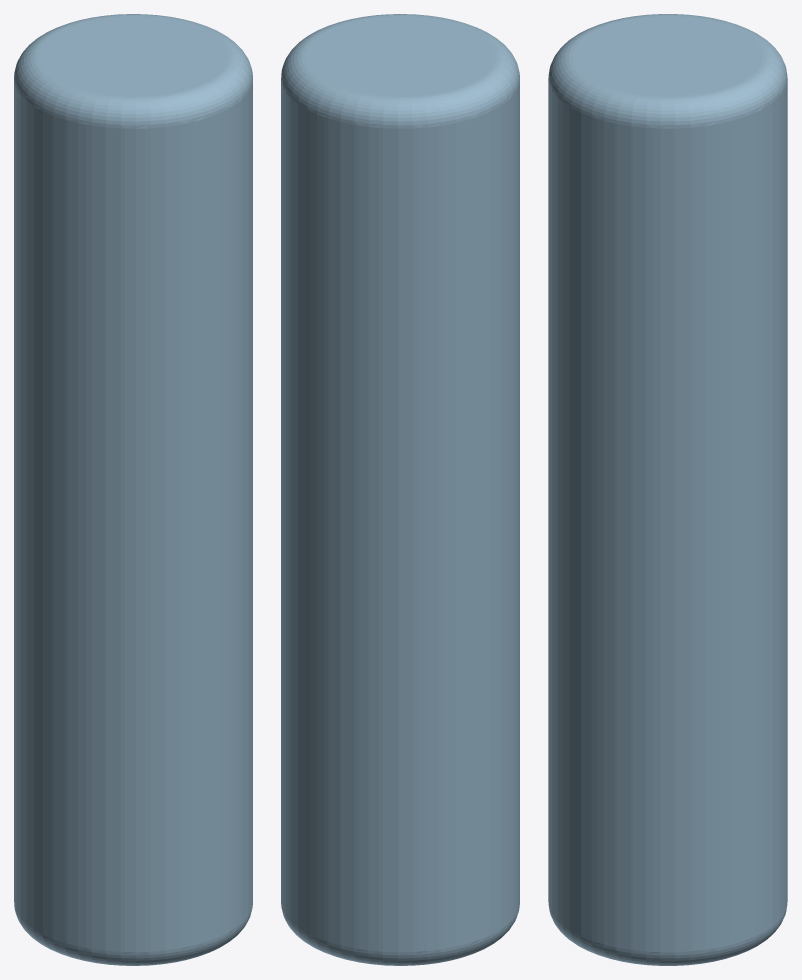
File: case-03_lib00006.glb
3 renders of one model, left to right at view 1: azimuth 30°, elevation 25°; view 2: azimuth 150°, elevation 25°; view 3: azimuth 270°, elevation 25°, orthographic.
Parts seen in each view (by area): view 1: lib00006; view 2: lib00006; view 3: lib00006.
Boxes of the visible parts, <box> form: lib00006: <box>14,14,252,965</box>; lib00006: <box>281,14,519,965</box>; lib00006: <box>548,14,787,965</box>.
Size of the model in its own units: 19.48 by 78 by 19.5.
